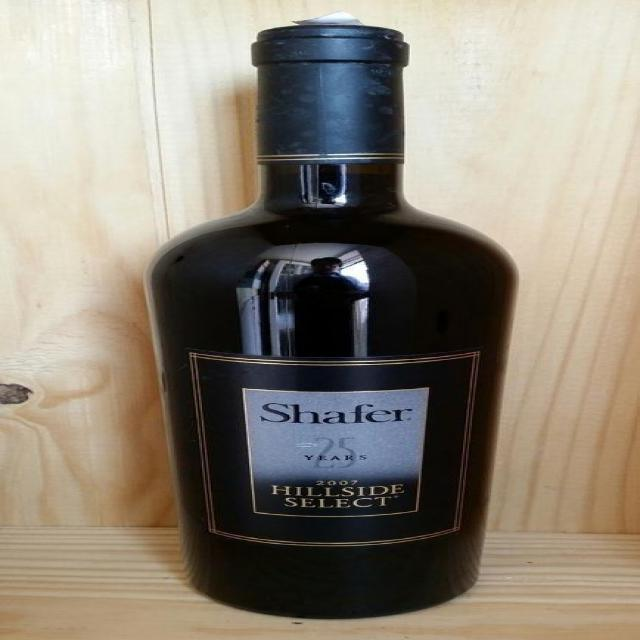bottle-glass: (140, 13, 521, 618)
